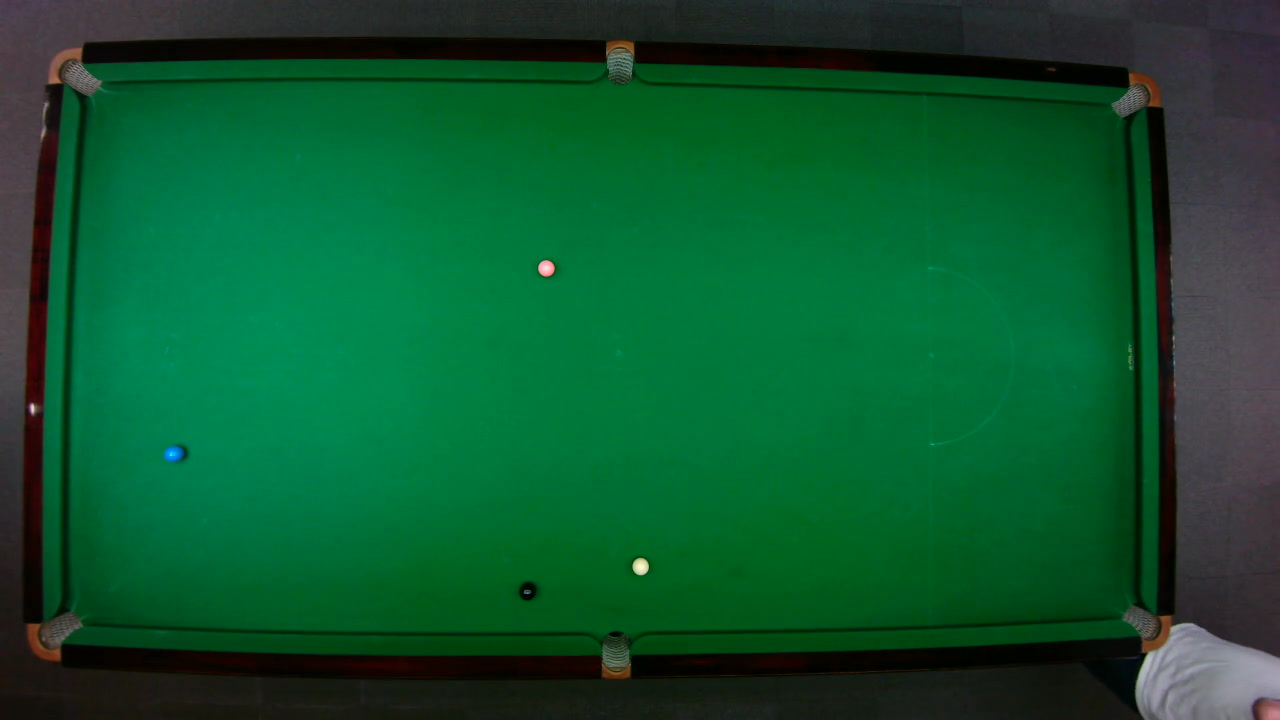bag: (24, 609, 84, 661), (45, 46, 102, 96), (1108, 71, 1161, 118), (1120, 603, 1171, 650), (601, 629, 630, 680), (605, 38, 633, 85)
black: (518, 581, 536, 601)
blue: (162, 444, 185, 462)
pink: (536, 258, 555, 277)
white: (630, 556, 650, 575)
zone: (927, 265, 1013, 445)
